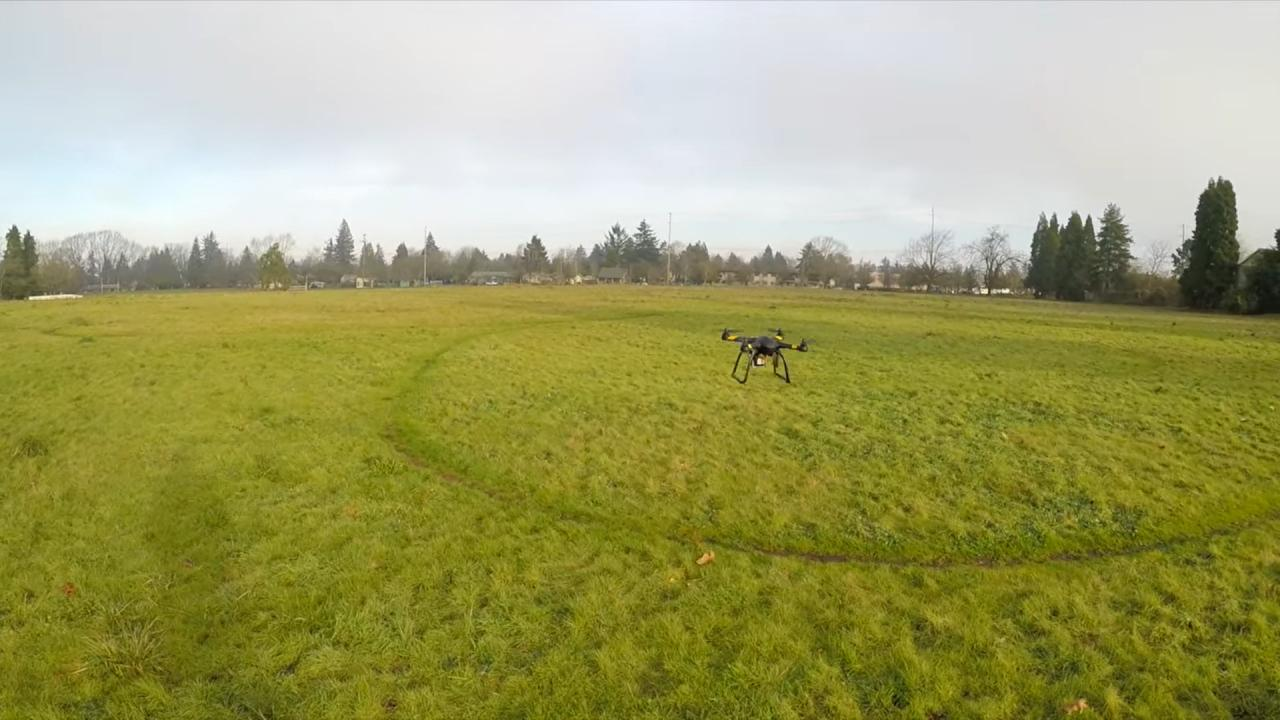Drone: (703, 316, 827, 395)
